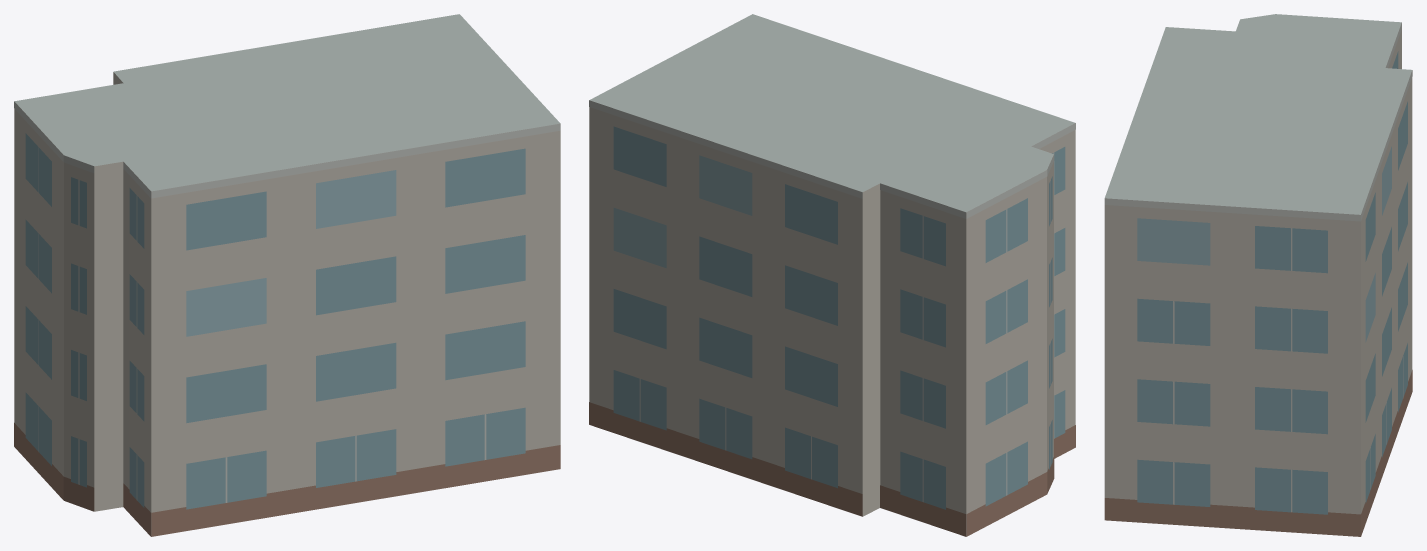
File: survey-upis-32613520.glb
3 views of the same model, side by side, from view 1: azimuth 30°, elevation 25°; view 2: azimuth 150°, elevation 25°; view 3: azimuth 270°, elevation 25° (orthographic). The views are drawn at different scales.
Visible parts, largest first — view 1: survey-upis-32613520.tmp; view 2: survey-upis-32613520.tmp; view 3: survey-upis-32613520.tmp.
Boxes of the visible parts, x1,y1,x2,y2 form: survey-upis-32613520.tmp: [14, 14, 560, 536]; survey-upis-32613520.tmp: [589, 14, 1075, 536]; survey-upis-32613520.tmp: [1104, 14, 1412, 536].
Size of the model in its own units: 15.86 by 11.85 by 10.28.
